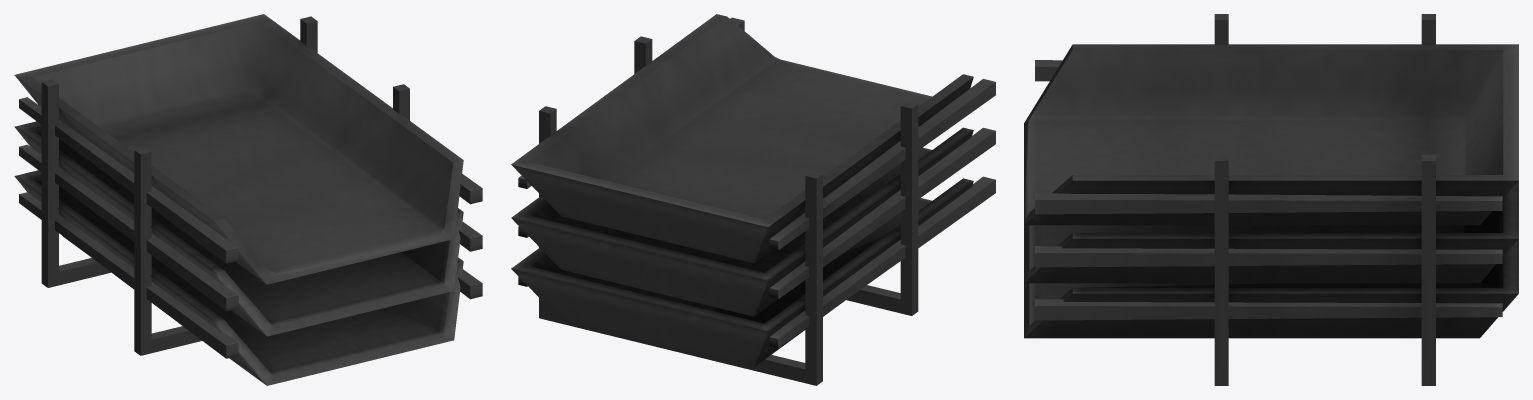
Rendered from document_holder_1.fbx.
3 renders of one model, left to right at view 1: azimuth 30°, elevation 25°; view 2: azimuth 150°, elevation 25°; view 3: azimuth 270°, elevation 25°, orthographic. The views are drawn at different scales.
Visible parts, largest first — view 1: document_holder_1; view 2: document_holder_1; view 3: document_holder_1.
Boxes of the visible parts, x1,y1,x2,y2 form: document_holder_1: (14, 14, 482, 385); document_holder_1: (511, 14, 995, 385); document_holder_1: (1024, 14, 1518, 385).
Size of the model in its own units: 30.81 by 22.01 by 43.87.
